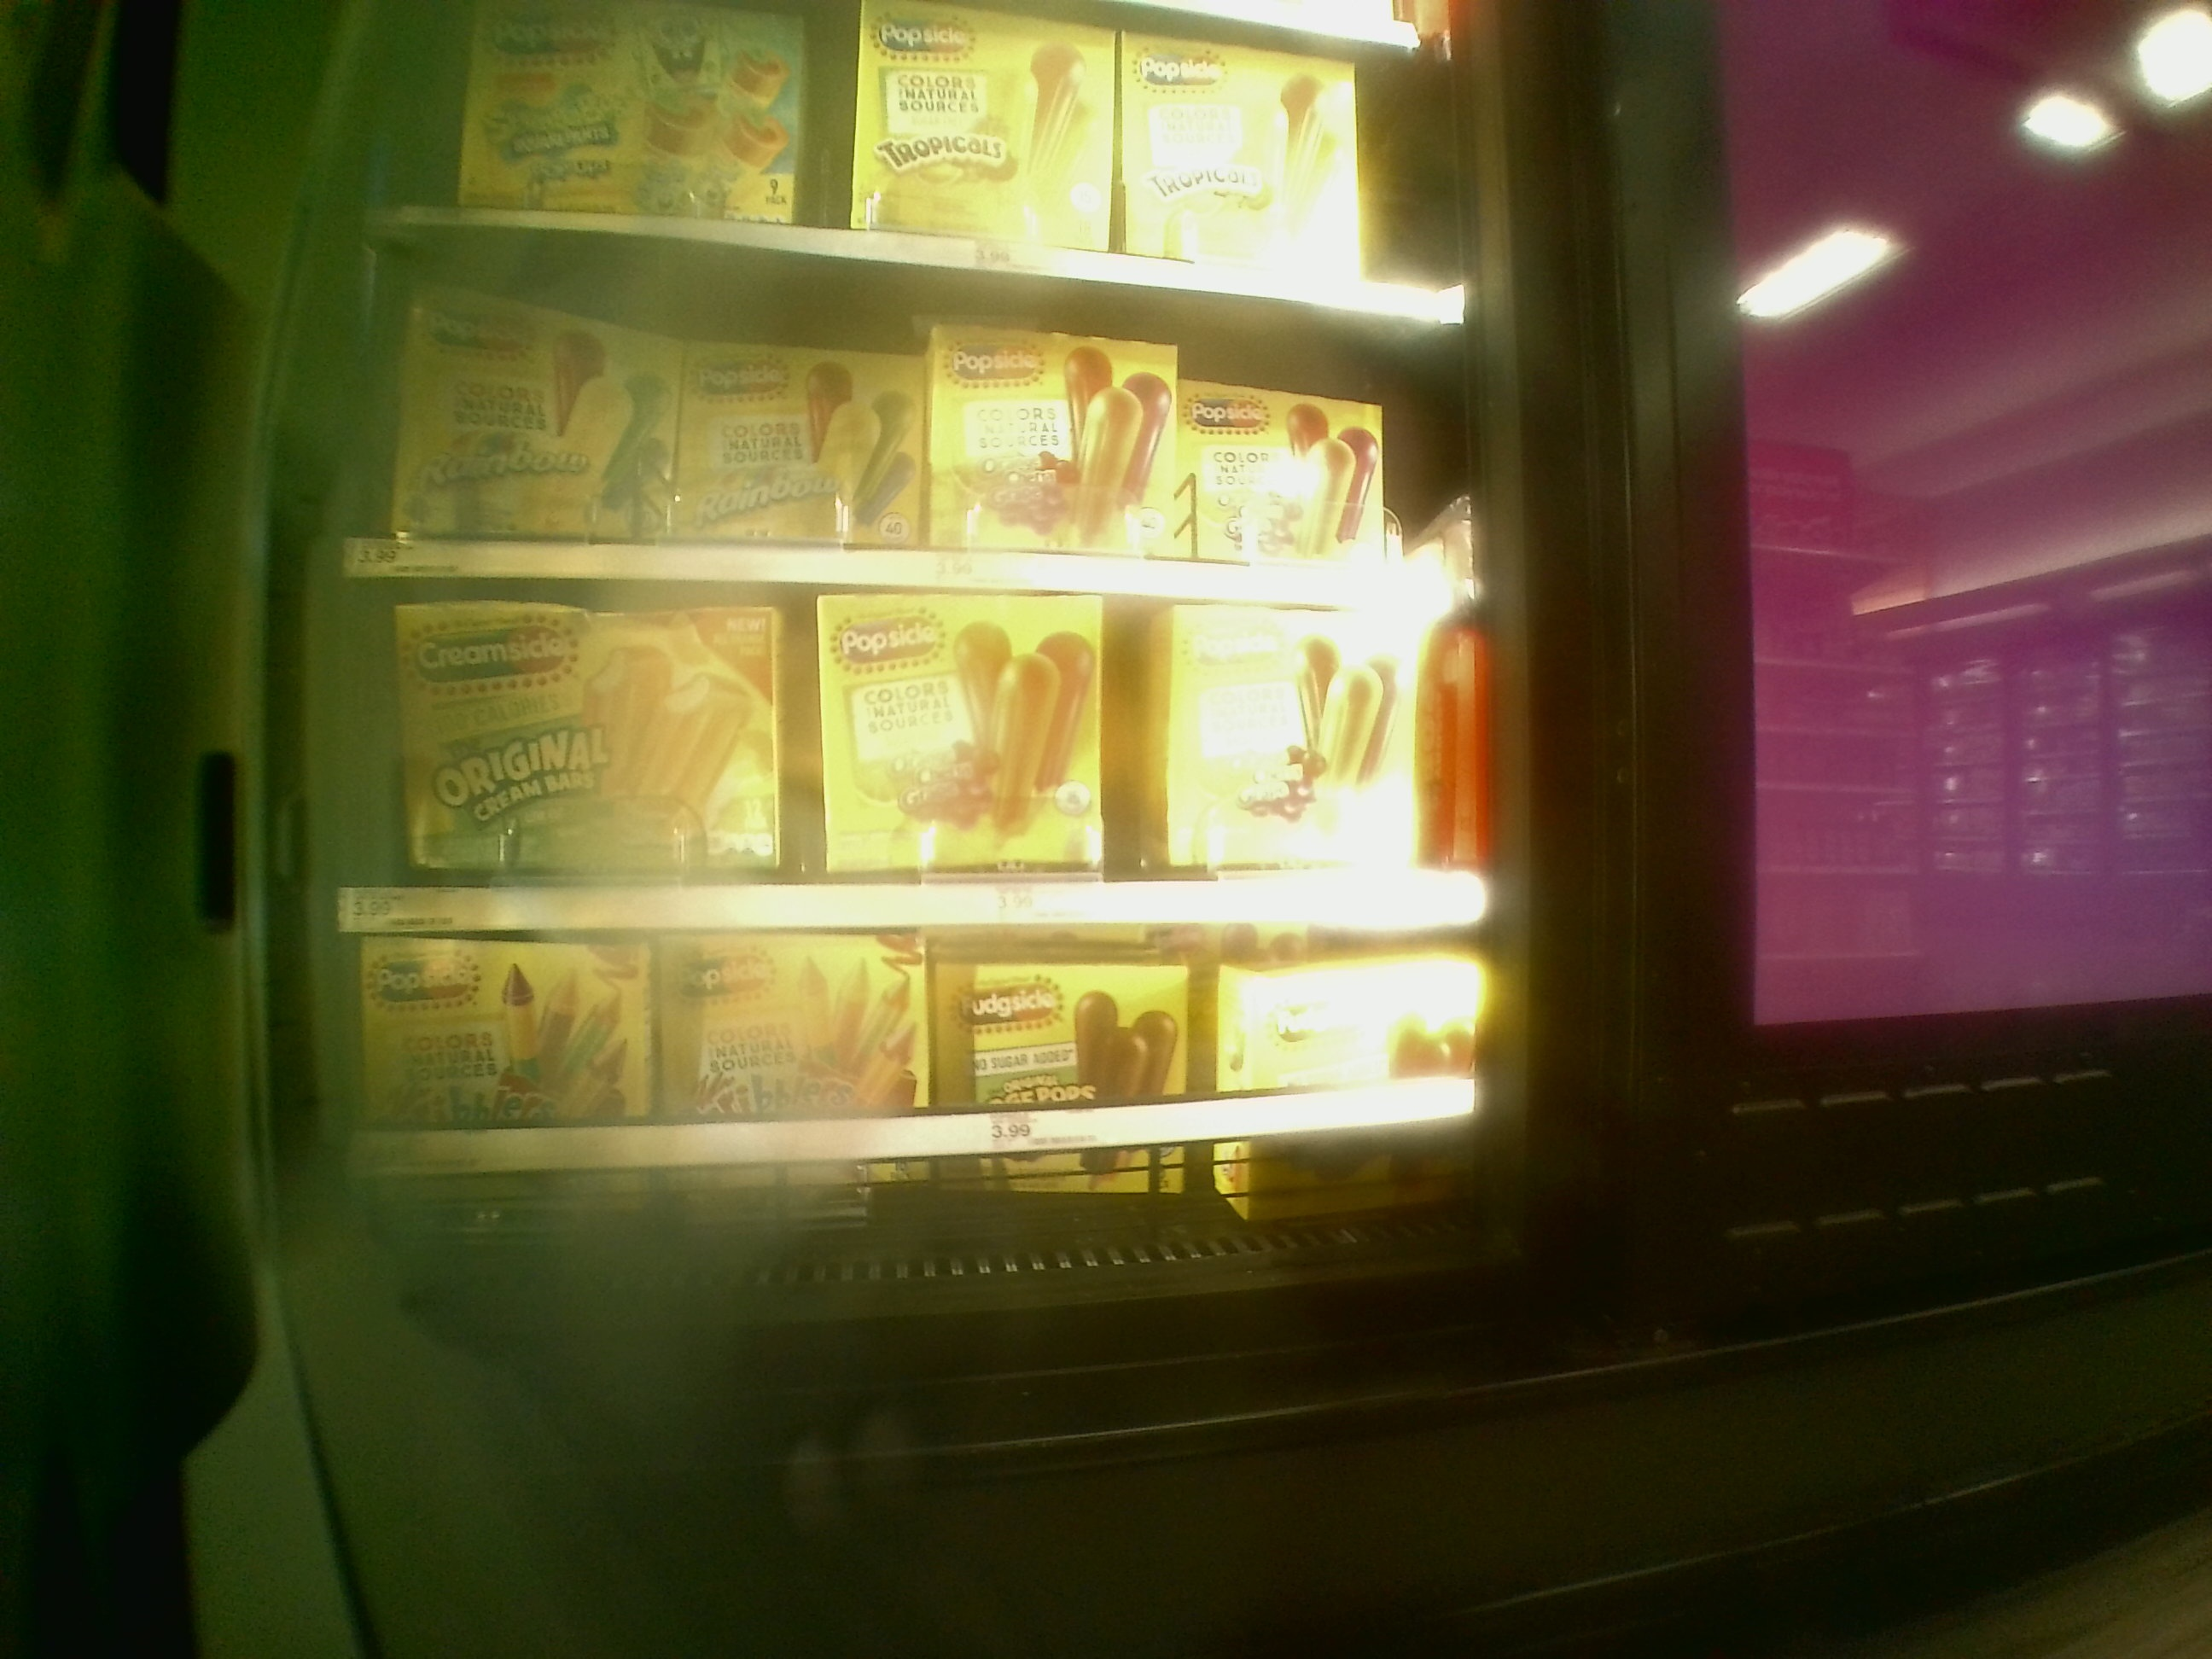frozen-food-shelf: (326, 608, 1480, 929), (329, 932, 1529, 1180)
